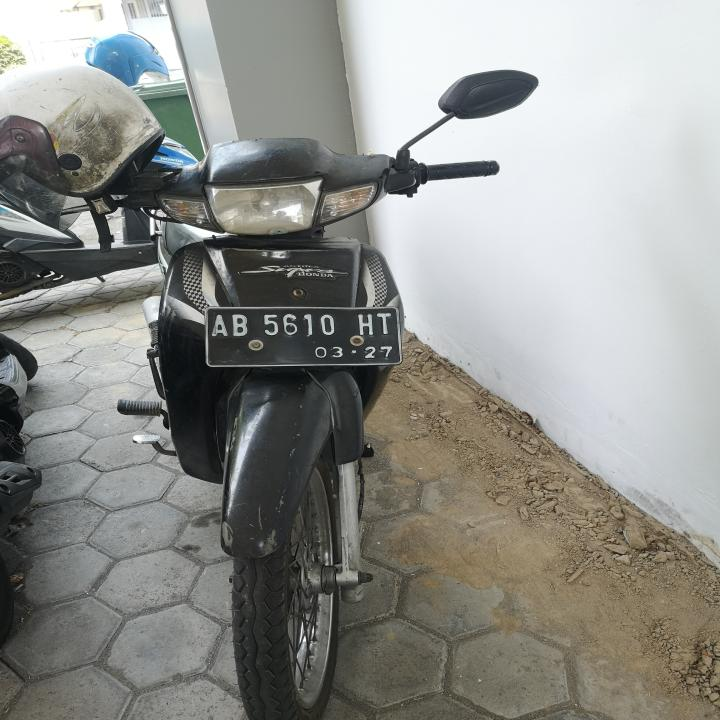plate: (203, 306, 404, 370)
